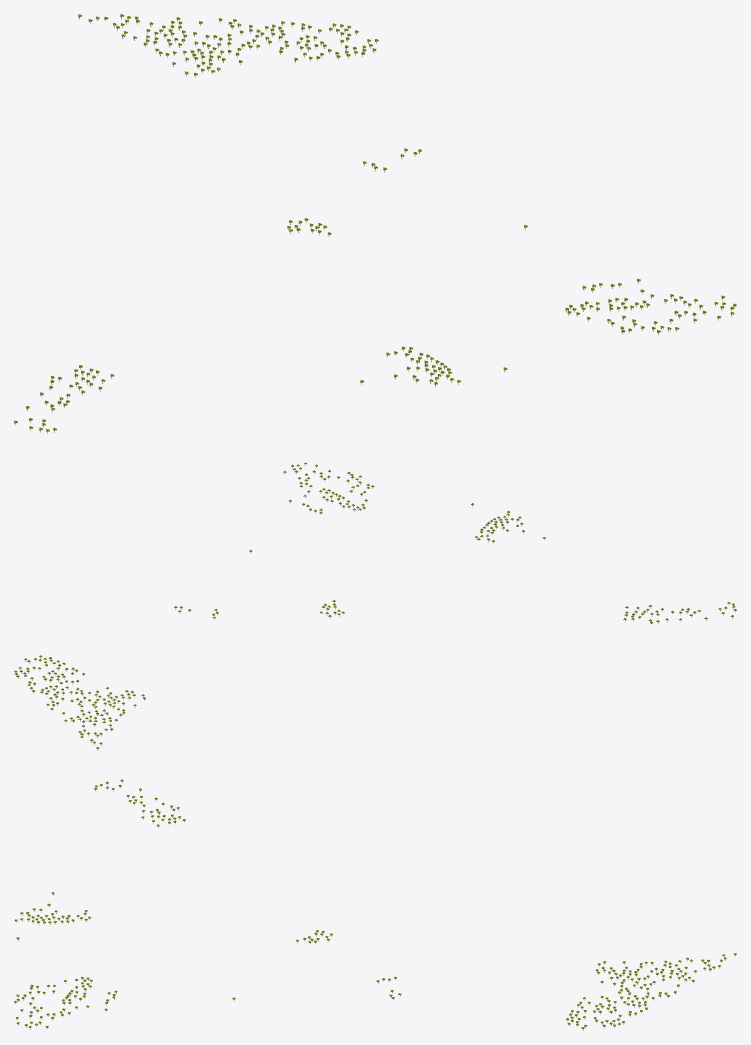
Rendered from trees_01.glb.
3 views of the same model, one above another, from view 1: azimuth 30°, elevation 25°; view 2: azimuth 150°, elevation 25°; view 3: azimuth 270°, elevation 25° (orthographic). The views are drawn at different scales.
Size of the model in its own units: 2000 by 13.31 by 2456.
